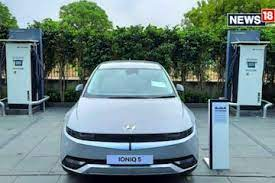Honda Ioniq: (60, 54, 204, 183)
